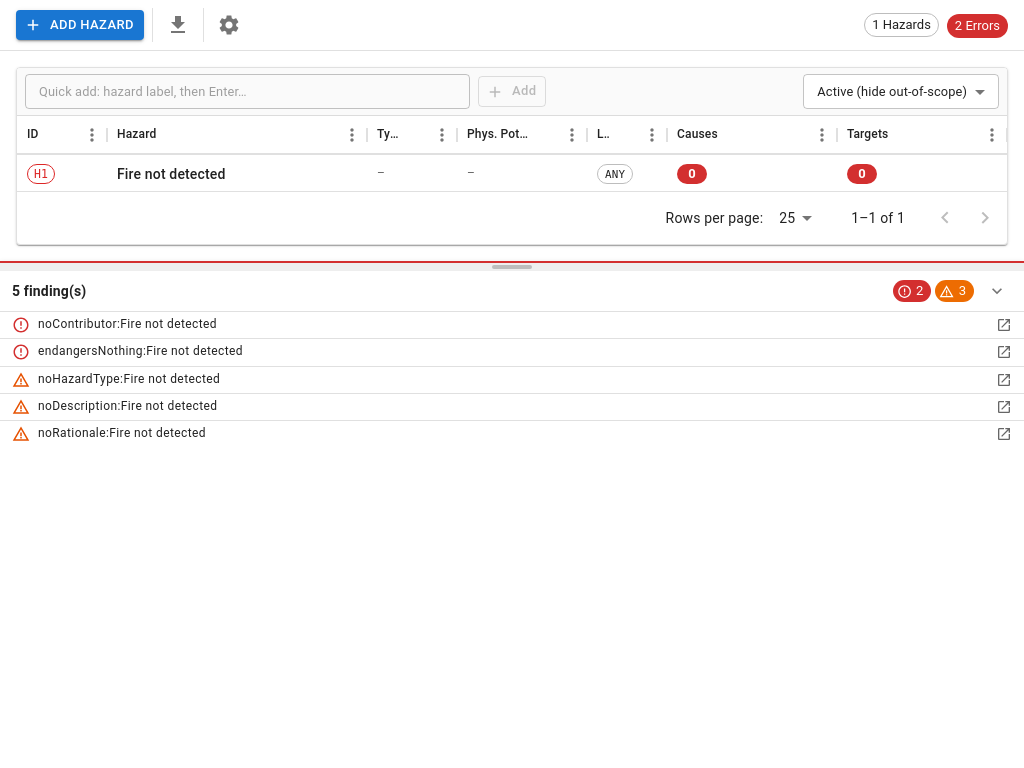
HazardsTab — findings panel (FX-1) › a click opens the hazard's dialog
Check: the text "Edit Hazard" is not shown
Step 1. Click the button with test id "hazard-notification-row" that starts with "noContributor:Fire not detected" → (128, 324), box top-left (0, 312), bottom-right (1023, 339)
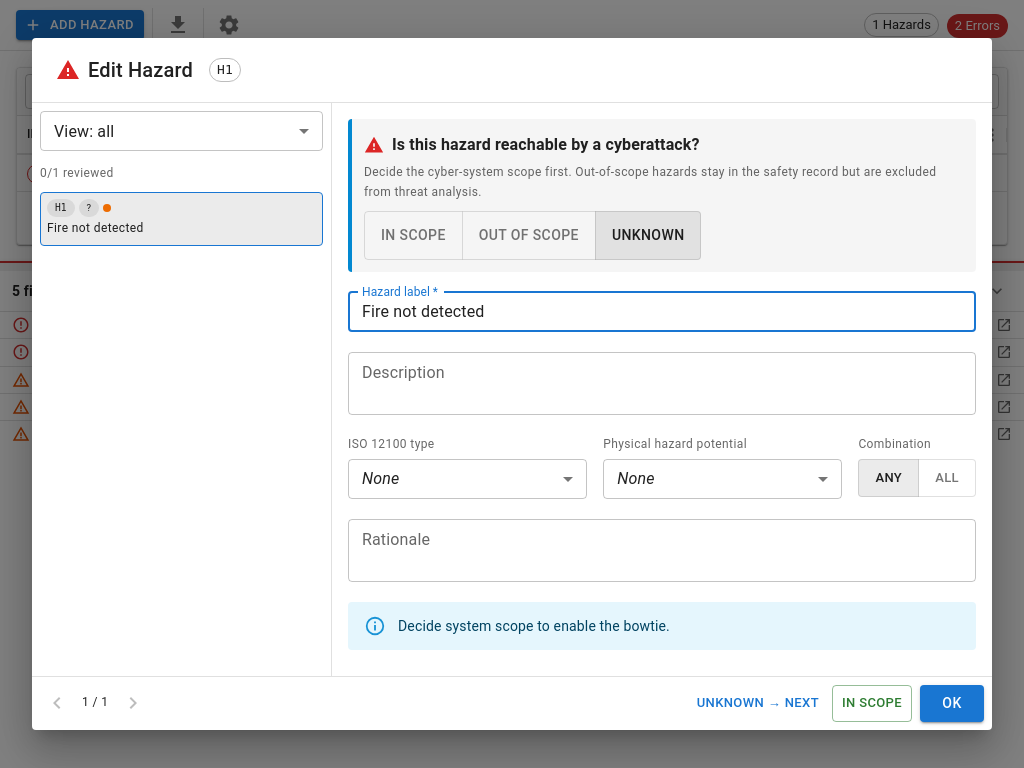
Check: the heading "Edit Hazard H1" is shown, box top-left (56, 58), bottom-right (241, 82)
Check: the field showing "Fire not detected" is shown, box top-left (348, 292), bottom-right (976, 332)
